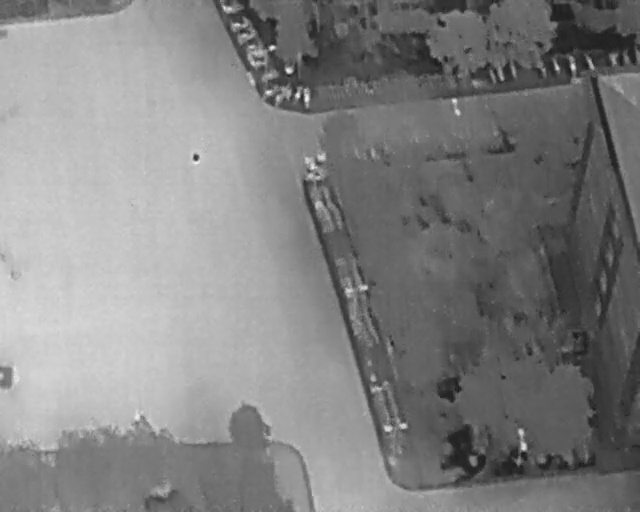Bicycle: (271, 81, 296, 111), (232, 25, 259, 47), (228, 13, 254, 35), (260, 80, 283, 103), (582, 50, 600, 75), (548, 53, 565, 78), (566, 52, 581, 78), (303, 85, 310, 109), (295, 84, 303, 105)
